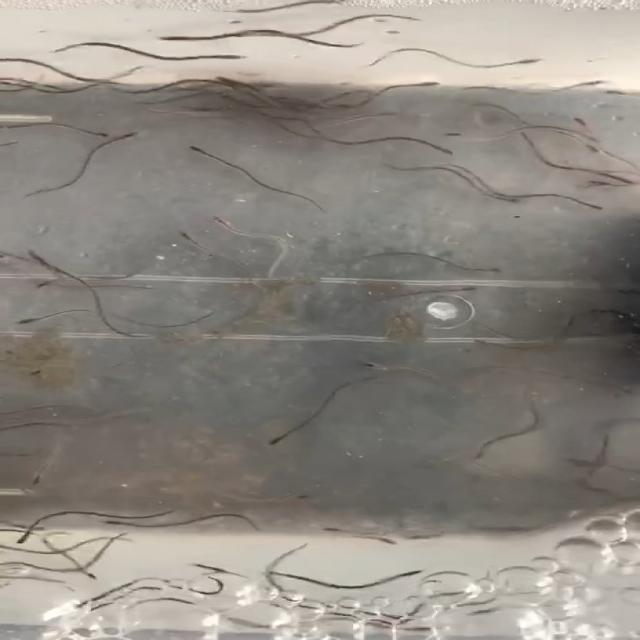active_glass_eel: (205, 74, 253, 95), (175, 228, 208, 252), (566, 75, 614, 91), (13, 310, 60, 326), (433, 130, 489, 143), (431, 141, 469, 159), (23, 246, 57, 266), (212, 24, 260, 38), (153, 29, 199, 43), (463, 442, 495, 462), (264, 427, 297, 446), (566, 115, 594, 137), (33, 277, 71, 293), (360, 533, 398, 549), (99, 515, 143, 528), (210, 212, 237, 233), (467, 263, 507, 277), (514, 53, 558, 65), (212, 52, 247, 67), (396, 623, 439, 635), (112, 128, 144, 144), (443, 282, 478, 296), (73, 563, 97, 583), (382, 569, 428, 579), (11, 526, 36, 544), (491, 196, 531, 207), (82, 128, 115, 140), (582, 198, 610, 212), (185, 141, 209, 156), (577, 140, 600, 155), (32, 467, 49, 487), (359, 360, 385, 370), (410, 82, 438, 91), (598, 91, 614, 102)
